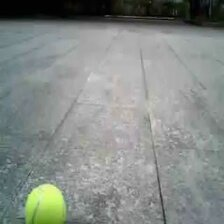tennis: (24, 184, 64, 224)
